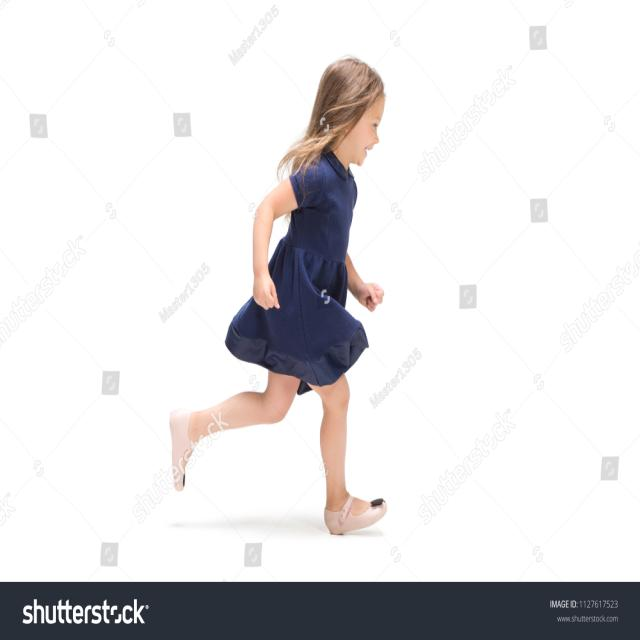running: (170, 54, 394, 534)
